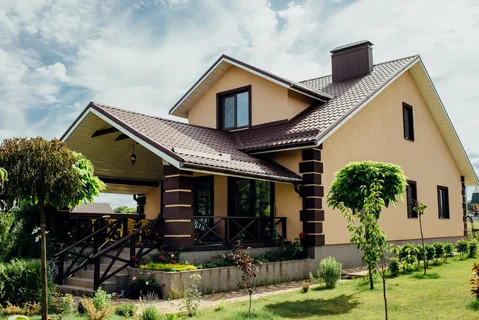private_hause: (153, 47, 467, 258)
